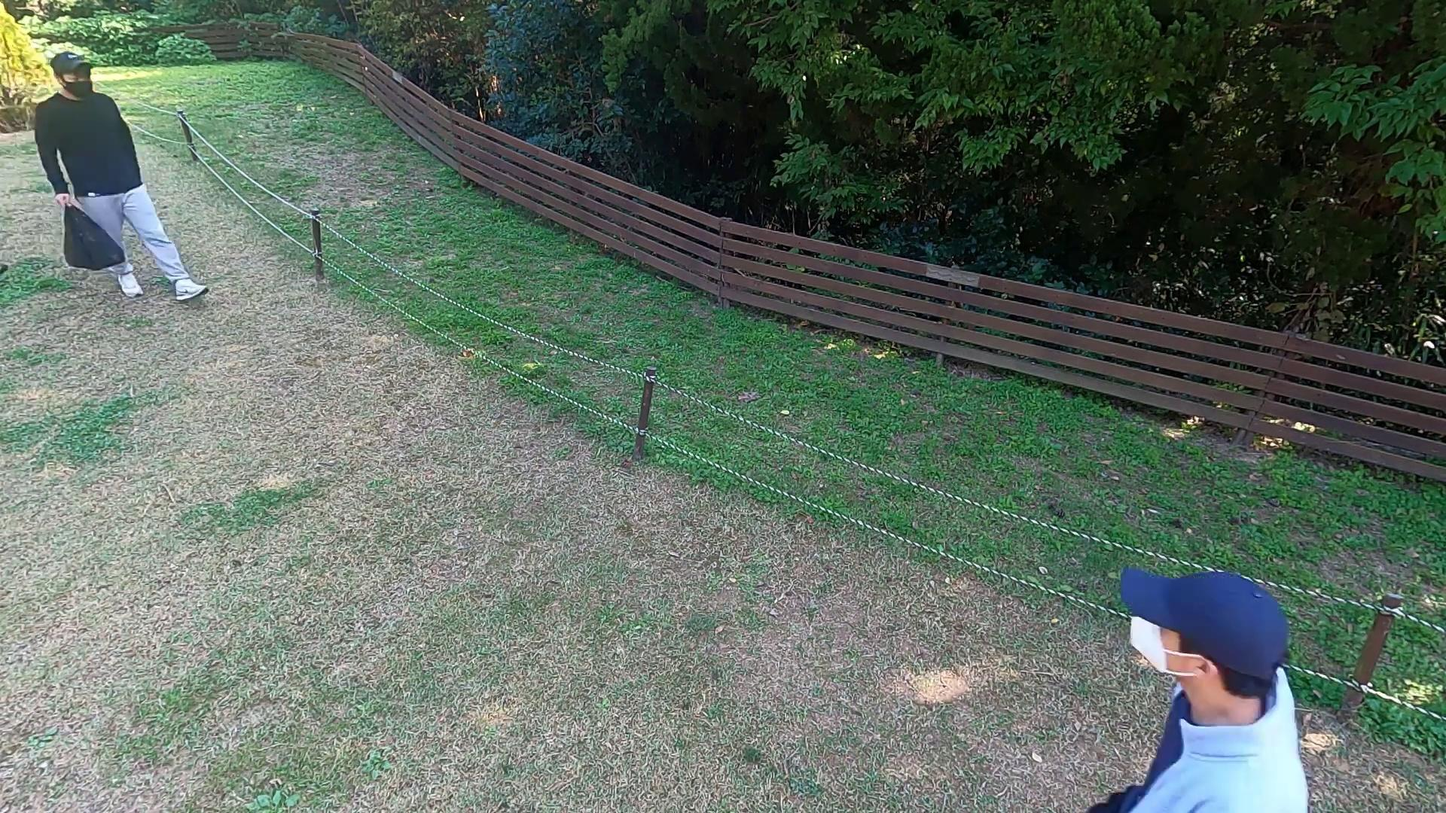person: (1072, 566, 1307, 813), (22, 37, 215, 317)
trash: (49, 202, 127, 273)
